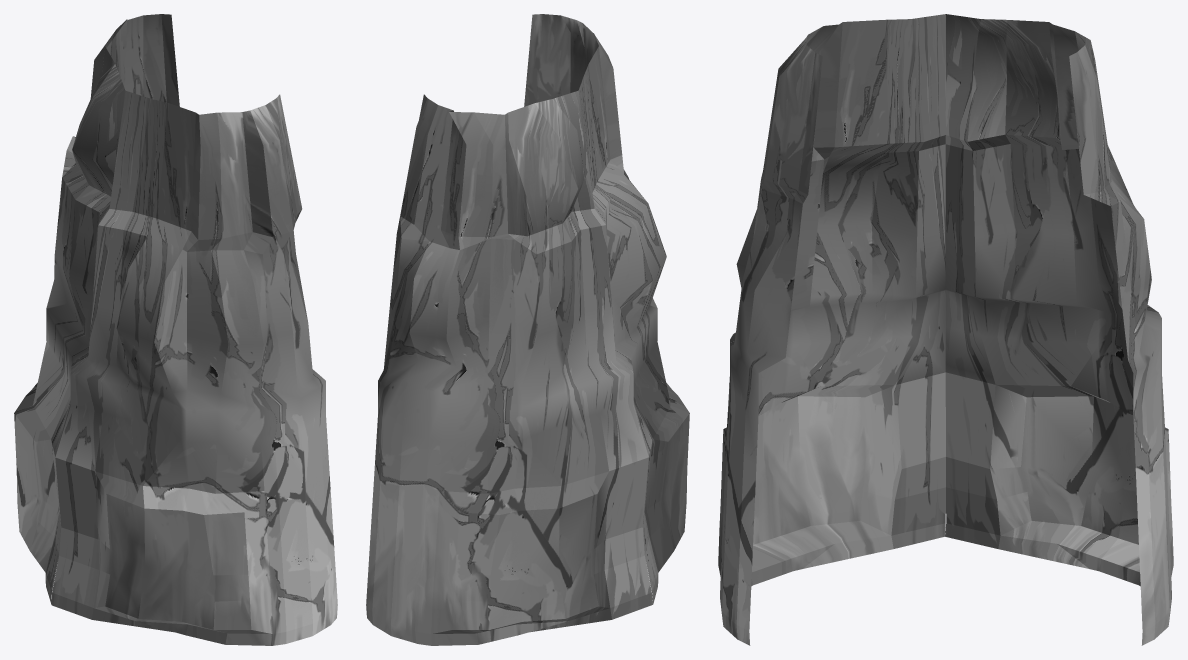
Rendered from WallSkull.fbx.
3 renders of one model, left to right at view 1: azimuth 30°, elevation 25°; view 2: azimuth 150°, elevation 25°; view 3: azimuth 270°, elevation 25°, orthographic. The views are drawn at different scales.
Parts seen in each view (by area): view 1: polySurface206; view 2: polySurface206; view 3: polySurface206.
Boxes of the visible parts, box(x1,y1,x2,y2) form: polySurface206: box(14, 14, 337, 645); polySurface206: box(366, 14, 689, 645); polySurface206: box(718, 14, 1173, 645).
Bounding box in the file's own units: 61.51 × 150 × 107.
1 material, 1 textured.
